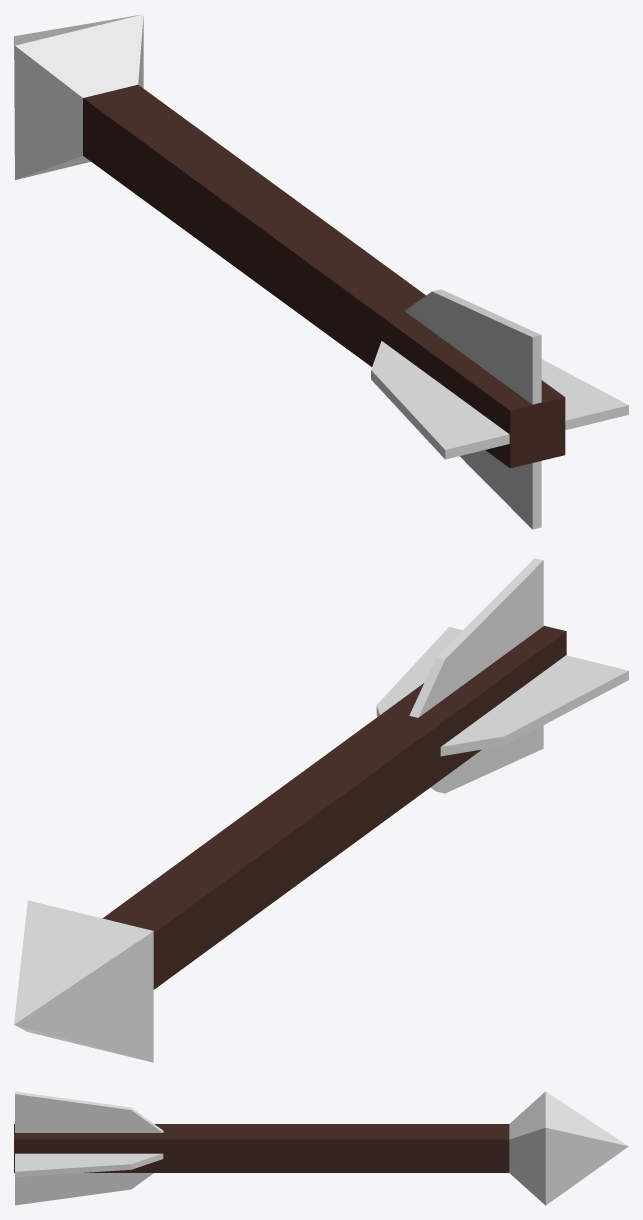
File: Arrow.gltf
The picture shows the model from 3 angles, top to bottom: view 1: azimuth 30°, elevation 25°; view 2: azimuth 150°, elevation 25°; view 3: azimuth 270°, elevation 25°; orthographic projection. The views are drawn at different scales.
Parts seen in each view (by area): view 1: Arrow; view 2: Arrow; view 3: Arrow.
Part boxes in pixels (x1,y1,x2,y2): Arrow: [14, 14, 628, 529]; Arrow: [14, 558, 628, 1062]; Arrow: [14, 1091, 628, 1205].
Size of the model in its own units: 0.2 by 0.2 by 1.
